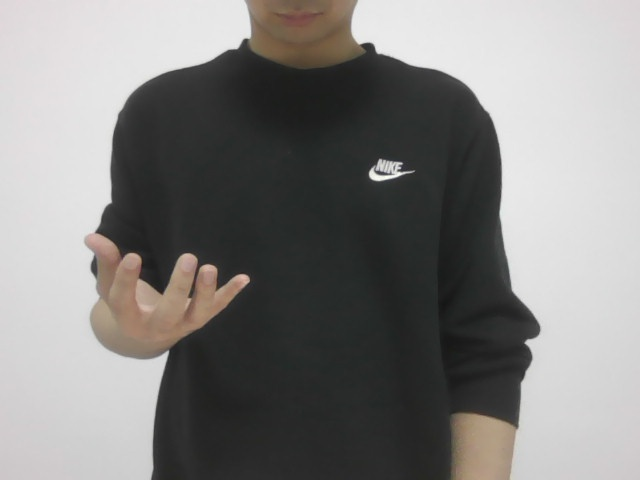flavor: (57, 231, 252, 356)
